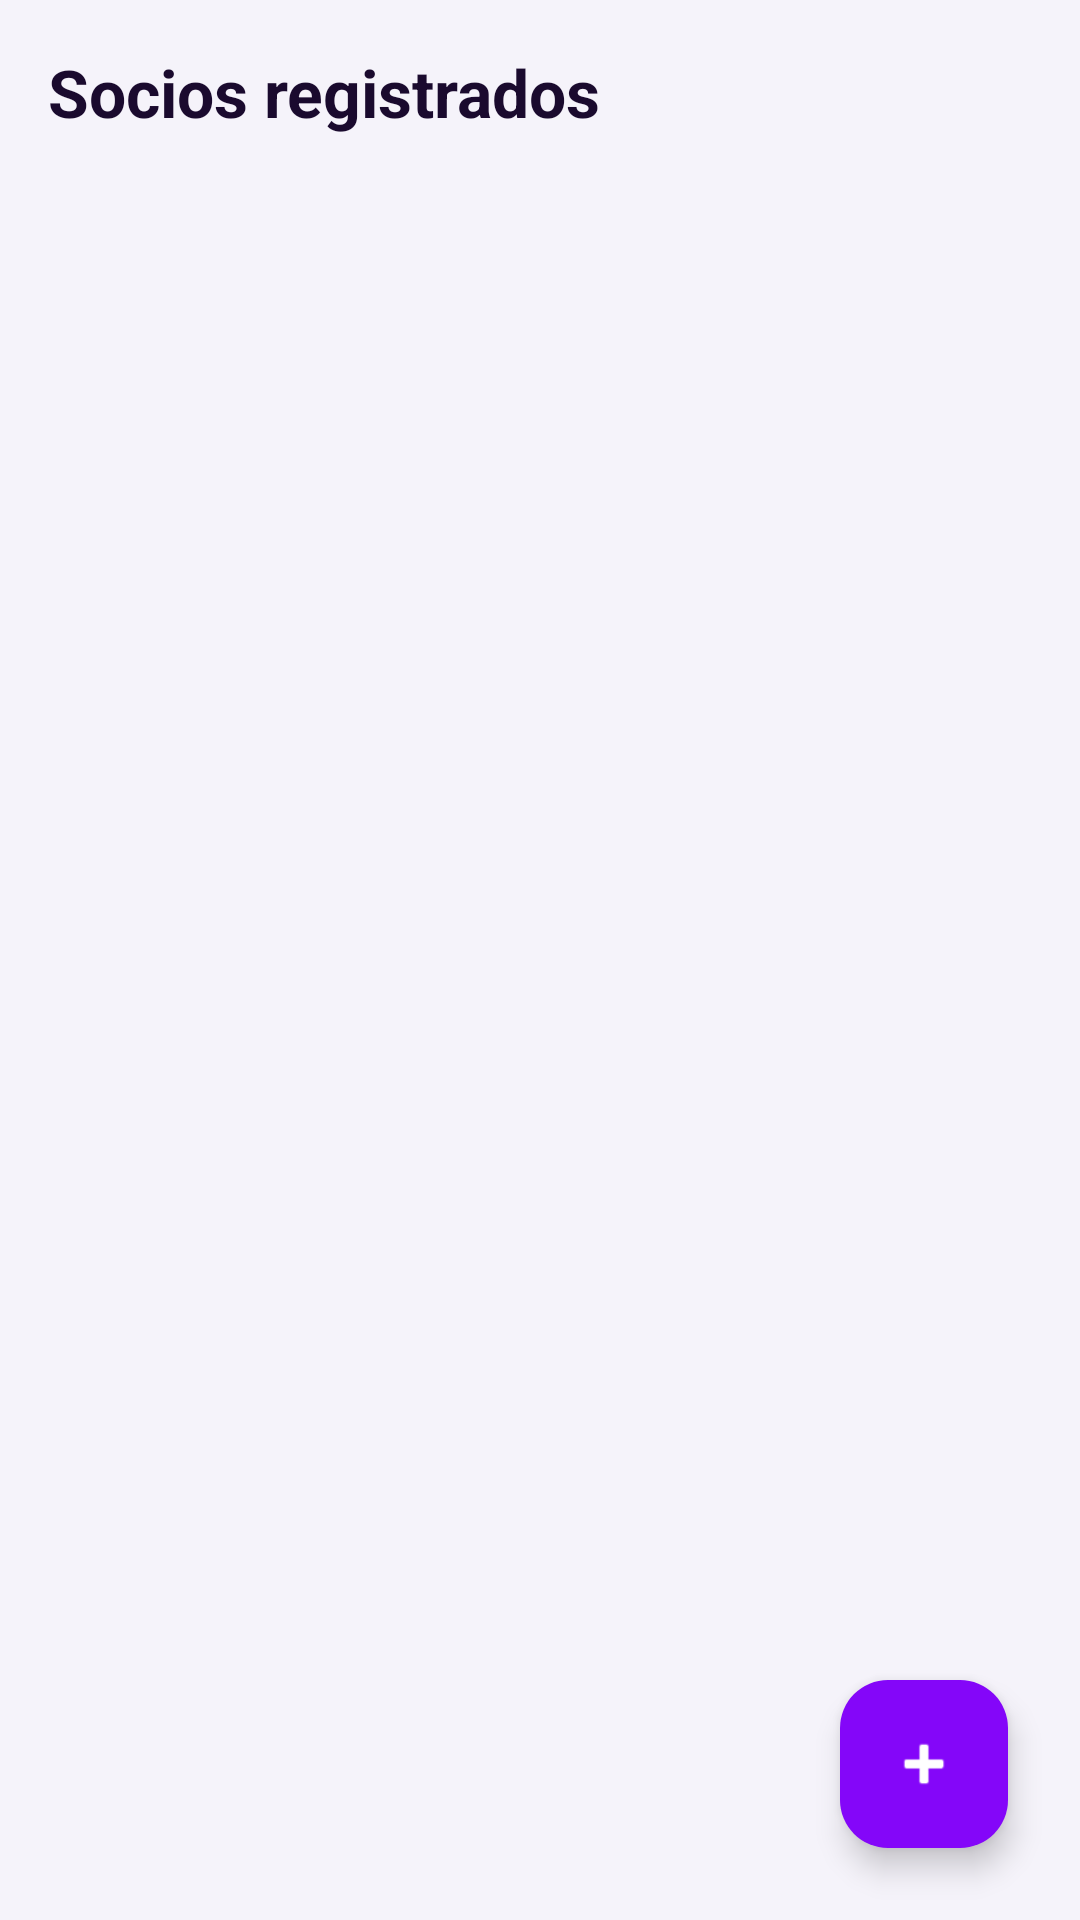

Icons on this 1080×1920 Android screen, each with its box as (x1,y1,x2,y2):
Registrar nuevo socio: (840,1680,1008,1848)
